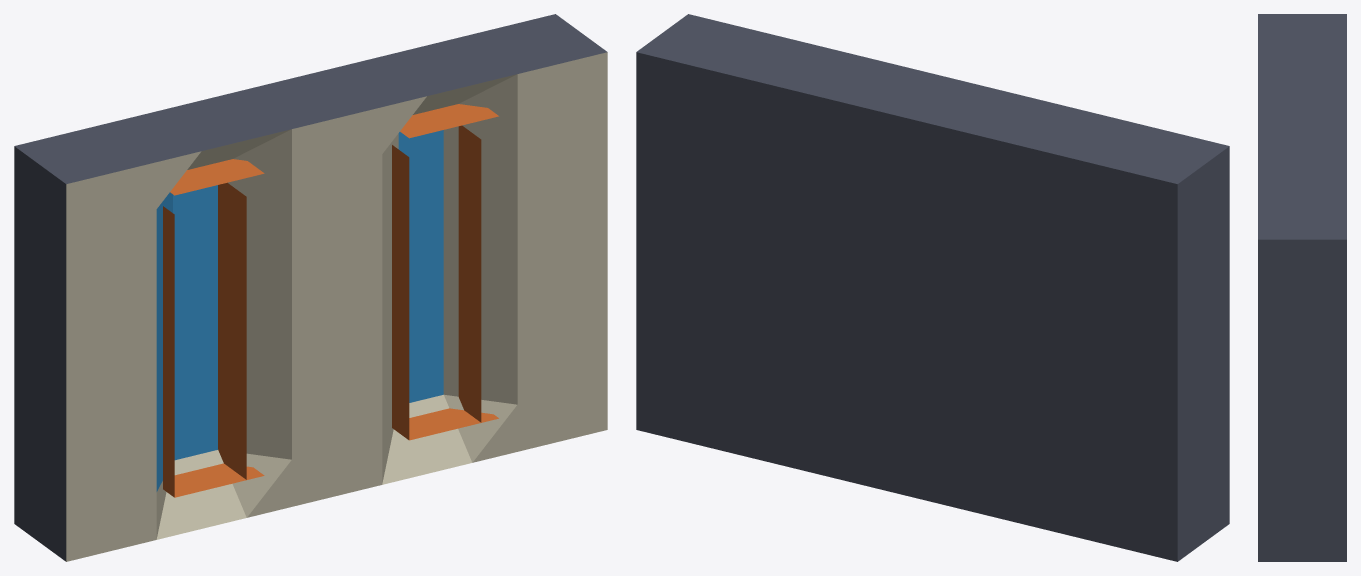
The model's file is sample_grooved_block.obj.
The picture shows the model from 3 angles, left to right: view 1: azimuth 30°, elevation 25°; view 2: azimuth 150°, elevation 25°; view 3: azimuth 270°, elevation 25°; orthographic projection. The views are drawn at different scales.
Bounding box in the file's own units: 6 × 4 × 1.
